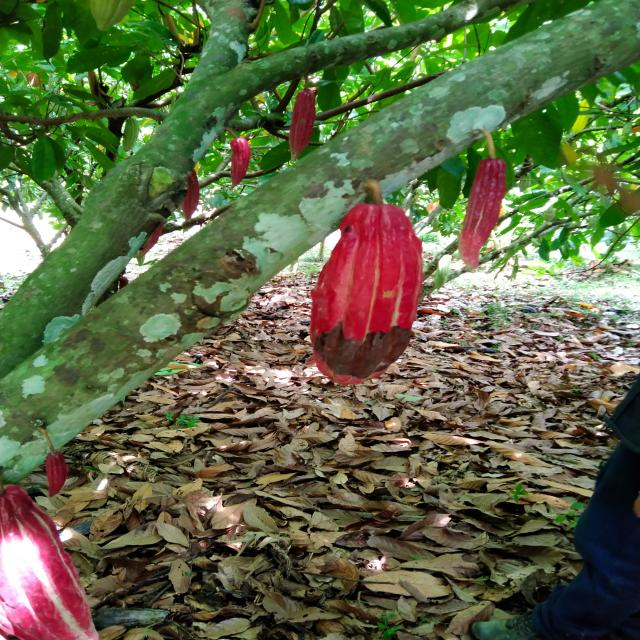Fitoftora: (313, 205, 416, 386)
Sana: (0, 482, 107, 638), (462, 156, 503, 267), (282, 91, 318, 157), (226, 138, 254, 182), (40, 457, 67, 499)
